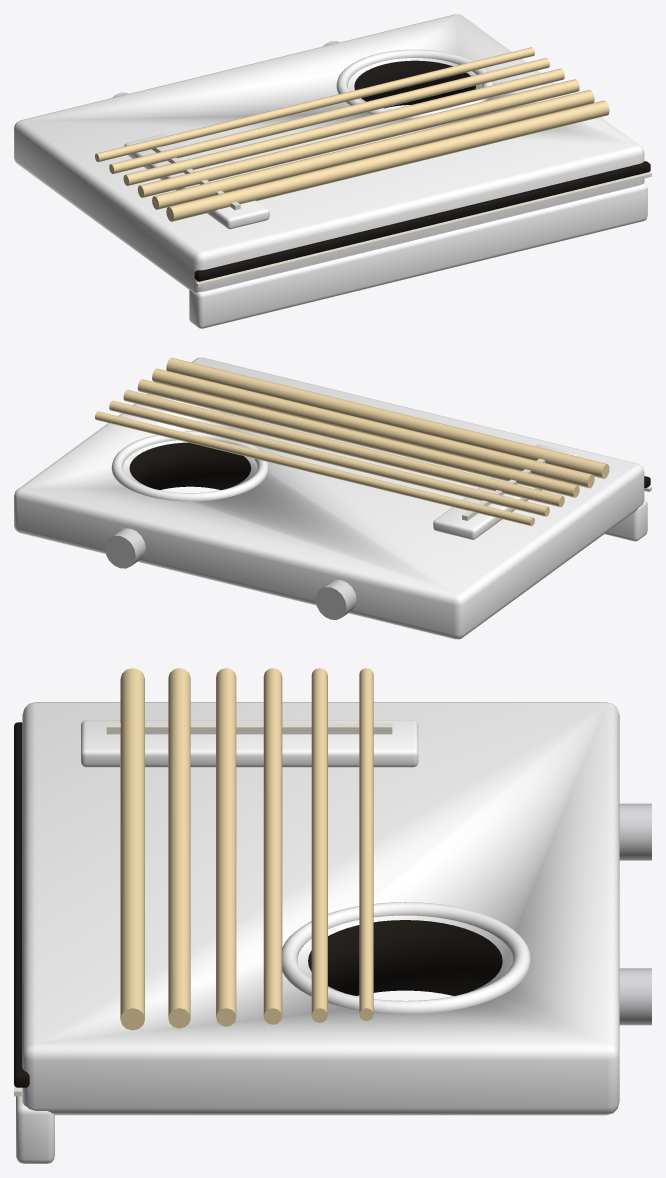
The picture shows the model from 3 angles, top to bottom: view 1: azimuth 30°, elevation 25°; view 2: azimuth 150°, elevation 25°; view 3: azimuth 270°, elevation 25°; orthographic projection. The views are drawn at different scales.
Parts seen in each view (by area): view 1: guitar_default; view 2: guitar_default; view 3: guitar_default.
Boxes of the visible parts, x1,y1,x2,y2 form: guitar_default: [14, 14, 651, 328]; guitar_default: [14, 357, 651, 639]; guitar_default: [14, 668, 651, 1163].
Bounding box in the file's own units: 0.646 × 0.13 × 0.4915.
